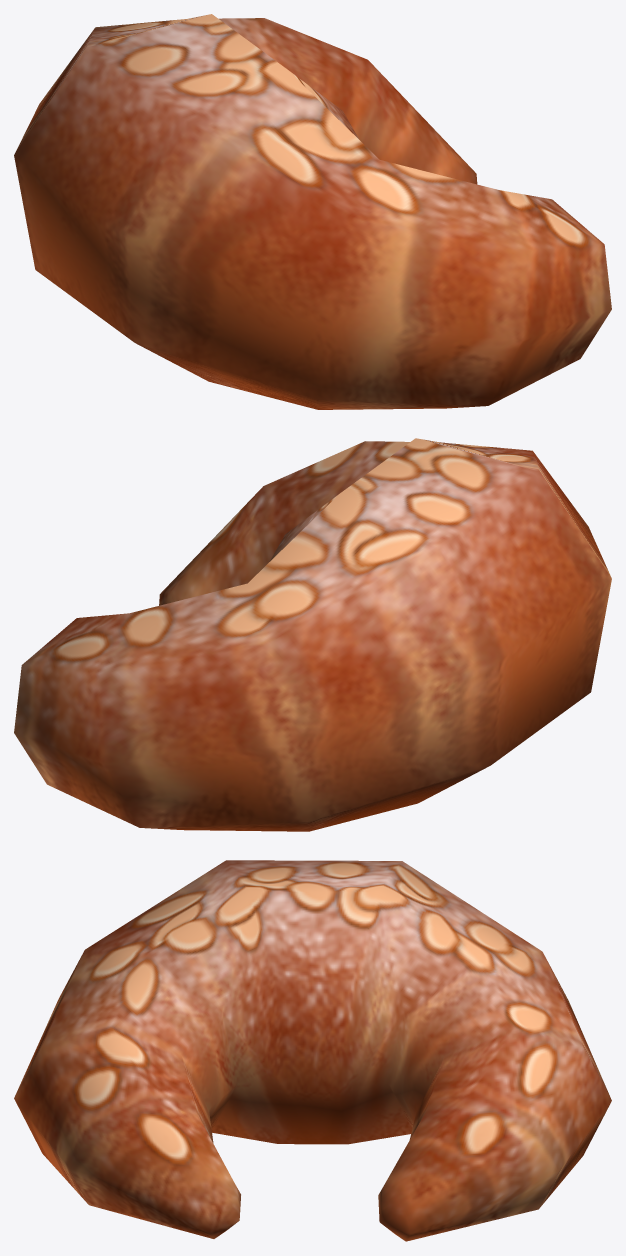
The model's file is Croissant_01.fbx.
3 renders of one model, top to bottom at view 1: azimuth 30°, elevation 25°; view 2: azimuth 150°, elevation 25°; view 3: azimuth 270°, elevation 25°, orthographic. The views are drawn at different scales.
Parts seen in each view (by area): view 1: Croissant_01; view 2: Croissant_01; view 3: Croissant_01.
Boxes of the visible parts, x1,y1,x2,y2 form: Croissant_01: (14, 14, 611, 409); Croissant_01: (14, 438, 611, 831); Croissant_01: (14, 860, 611, 1241).
Size of the model in its own units: 35.3 by 21.83 by 46.15.
